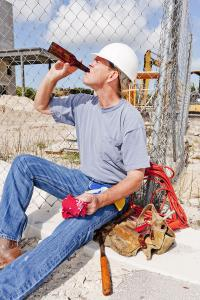helmet: (86, 36, 143, 100)
